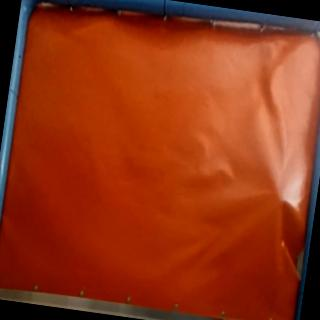Hit-hRxx: (273, 188, 293, 209)
